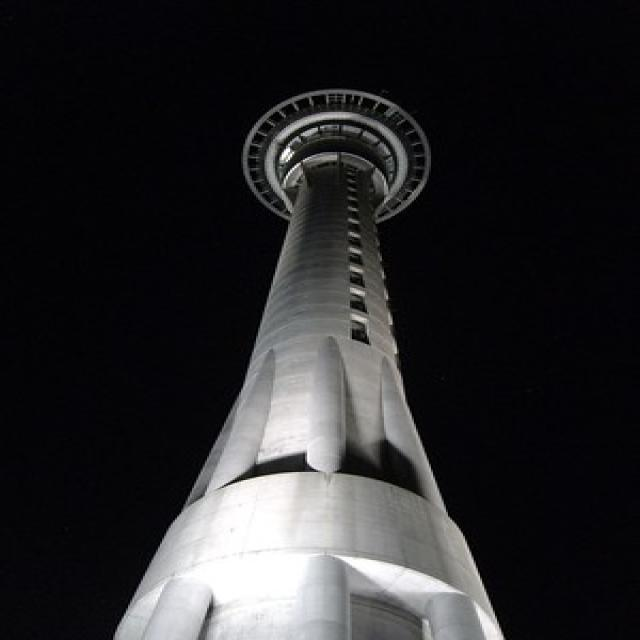building: (106, 80, 520, 640)
